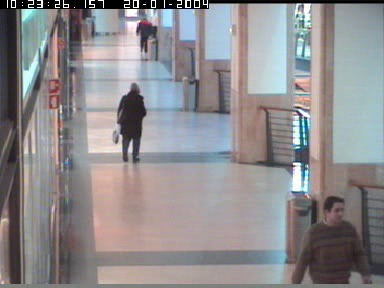person: (292, 196, 372, 282), (113, 82, 147, 162), (135, 15, 152, 53), (148, 9, 159, 39)
